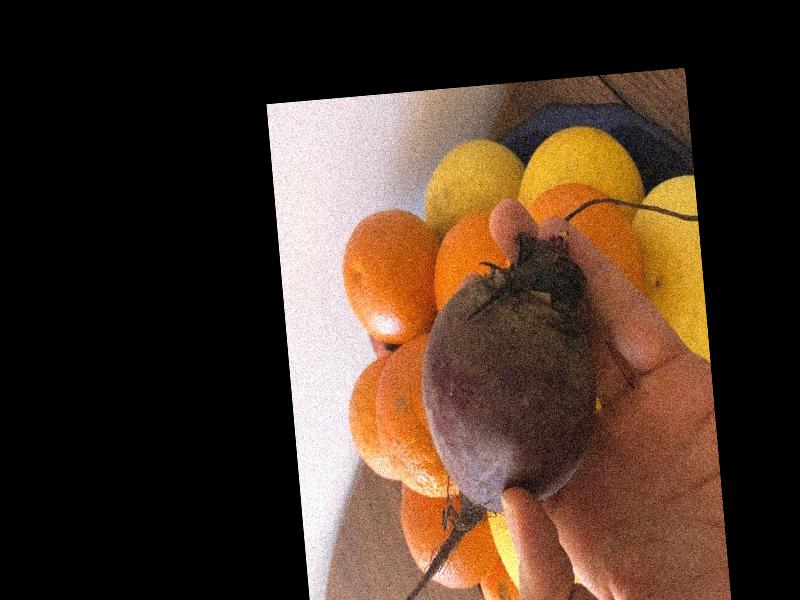Beet: (309, 233, 616, 600)
